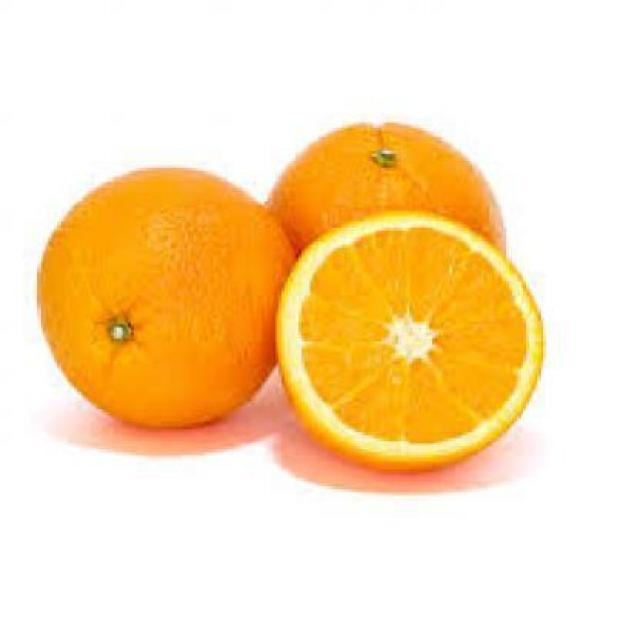Jeruk Sudah Matang: (45, 158, 290, 436), (268, 122, 503, 350)
